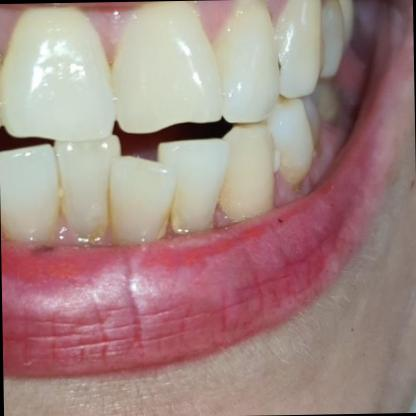Crowding: (111, 130, 230, 241)
